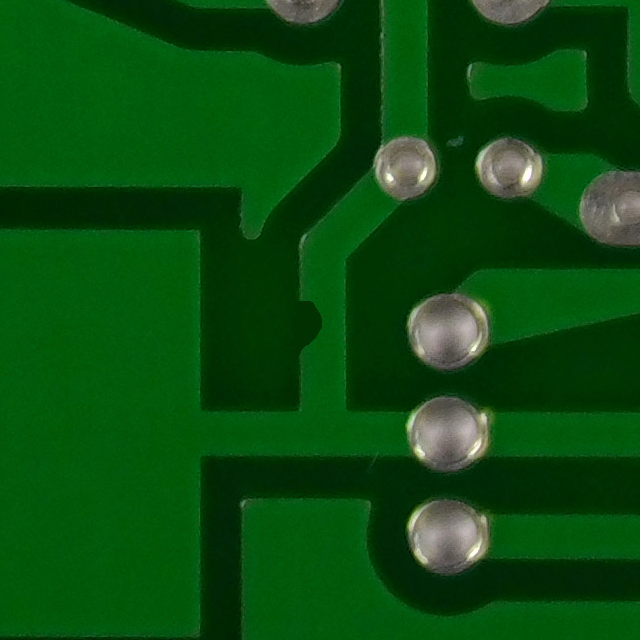mouse_bite: (282, 286, 359, 355)
